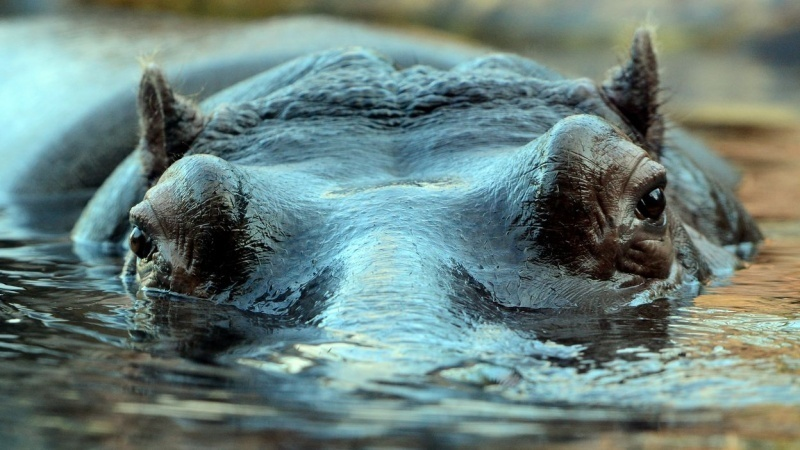hipopotamo: (57, 27, 764, 408)
